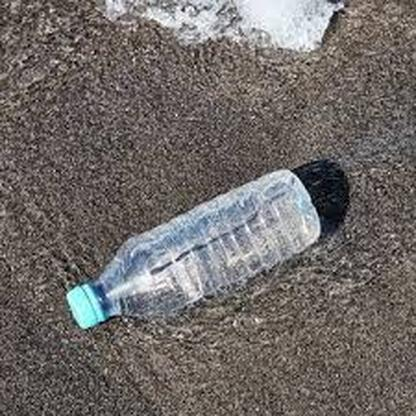plastic bottle: (65, 166, 323, 328)
